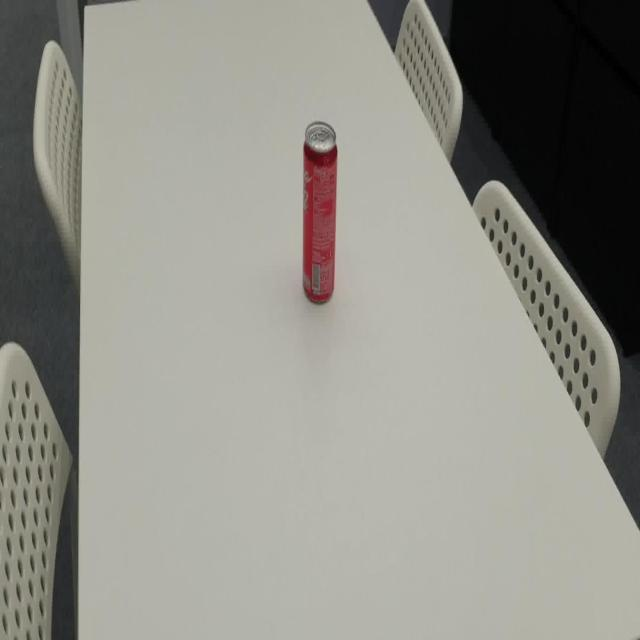coca-cola: (302, 118, 337, 310)
